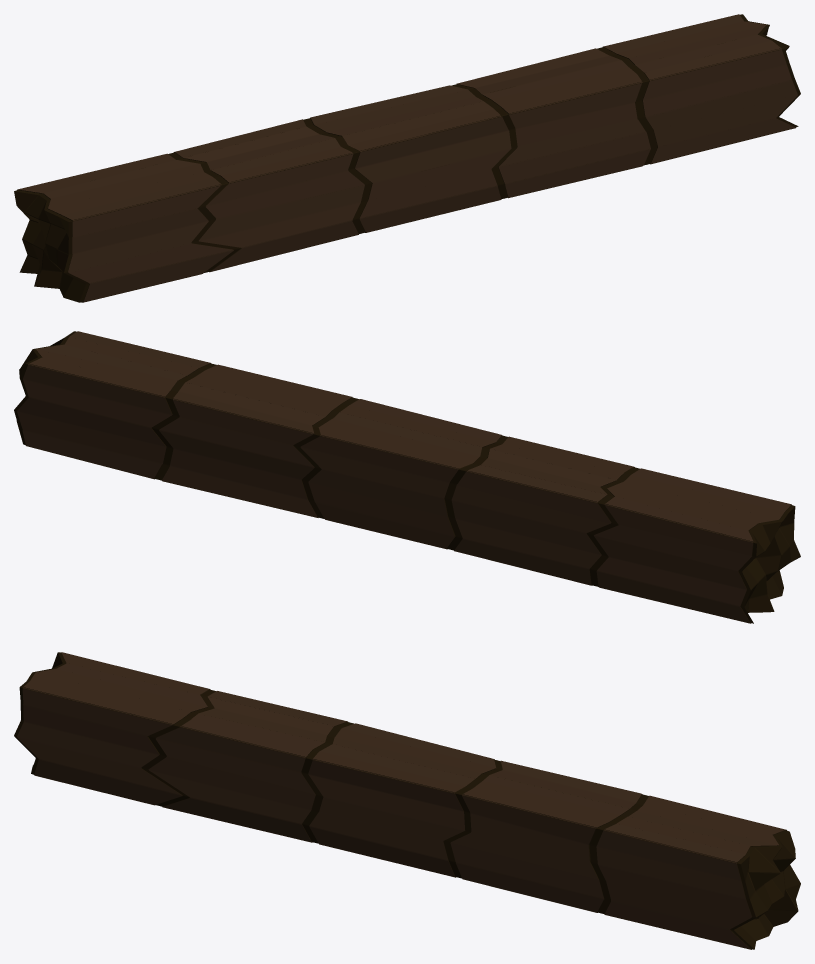
The model's file is Decha.fbx.
3 renders of one model, top to bottom at view 1: azimuth 30°, elevation 25°; view 2: azimuth 150°, elevation 25°; view 3: azimuth 330°, elevation 25°, orthographic.
Visible parts, largest first — view 1: Cube.011; view 2: Cube.011; view 3: Cube.011.
Part boxes in pixels (x1=…): Cube.011: x1=14, y1=14, x2=800, y2=302; Cube.011: x1=14, y1=331, x2=800, y2=623; Cube.011: x1=14, y1=652, x2=800, y2=949.
Size of the model in its own units: 2.03 by 0.2259 by 0.2298.
